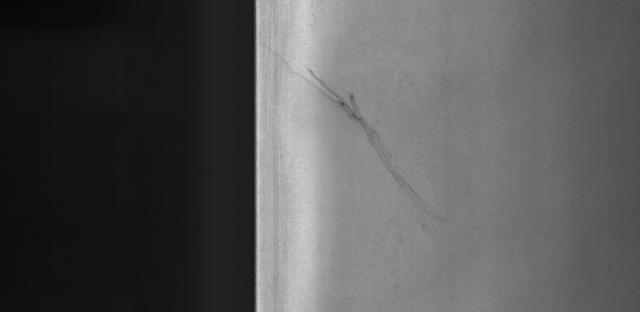water_spot: (298, 58, 457, 234)
